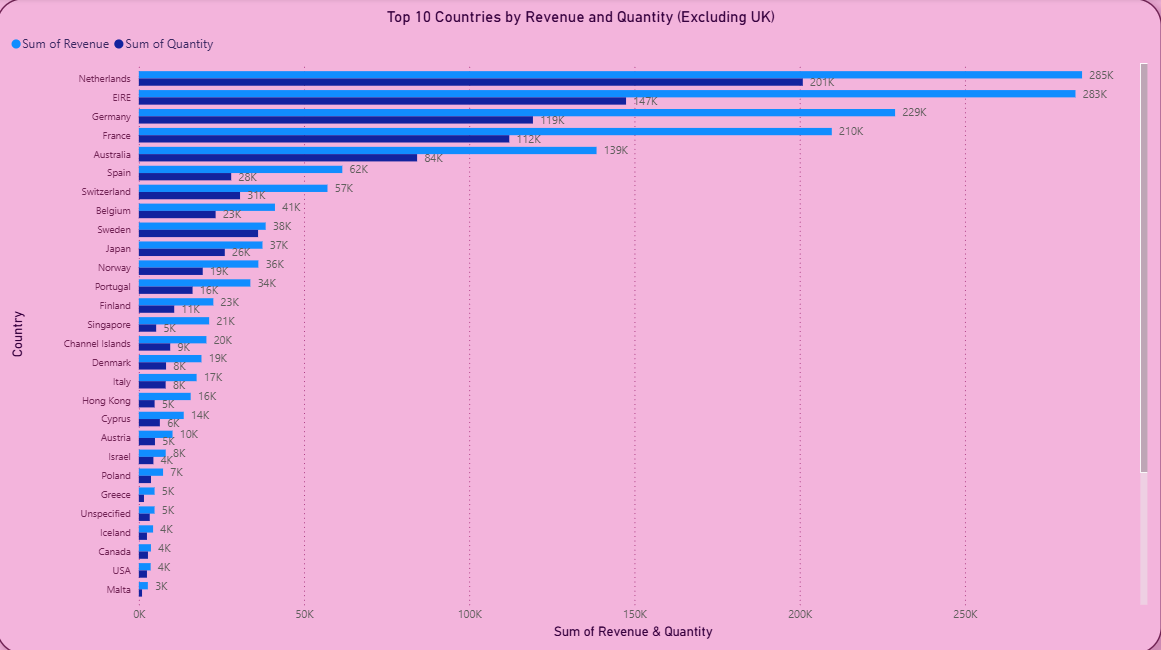

The page's visual inventory and layout, read from the dashboard file:
{"tool":"powerbi","page":{"name":"Top 10 Countries by Revenue and Quantity (Excluding UK)","canvas":[1280,720],"ordinal":2},"visuals":[{"type":"clusteredBarChart","title":"Top 10 Countries by Revenue and Quantity (Excluding UK)","fields":{"Category":["Online Retail.Country"],"Y":["Sum(Online Retail.Revenue)","Sum(Online Retail.Quantity)"]},"box":[0,0,1280.3,720.4],"z":1000}]}

Visuals, with their boxes in screenshot pixels (x1, y1, x2, y2), scaled from the page's 1280x720 canvas onto the 1161x650 screenshot:
"Top 10 Countries by Revenue and Quantity (Excluding UK)" clusteredBarChart: detection(0, 0, 1160, 649)
